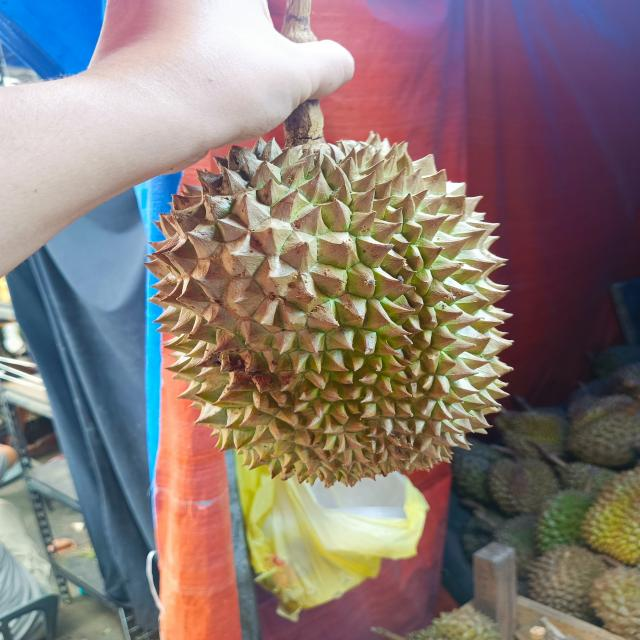mature: (151, 133, 511, 485)
